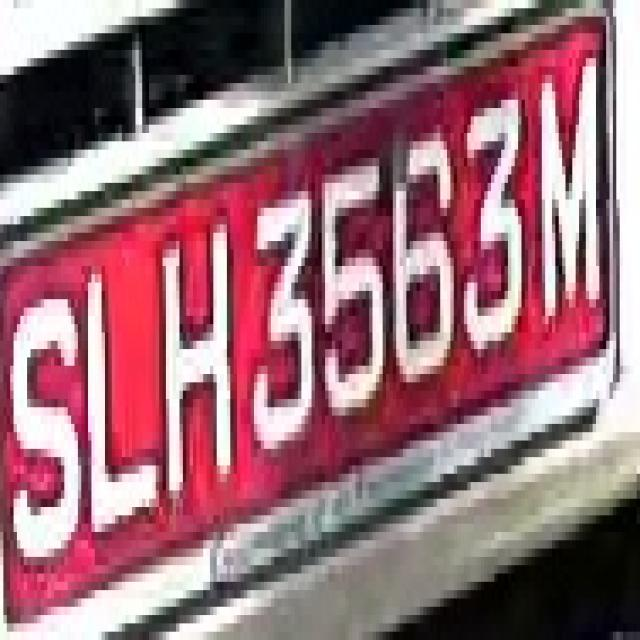3: (457, 67, 522, 366), (254, 175, 308, 457)
5: (322, 125, 386, 432)
6: (379, 124, 464, 416)
H: (159, 241, 237, 515)
L: (84, 233, 162, 557)
M: (532, 58, 610, 349)
S: (10, 266, 81, 590)
